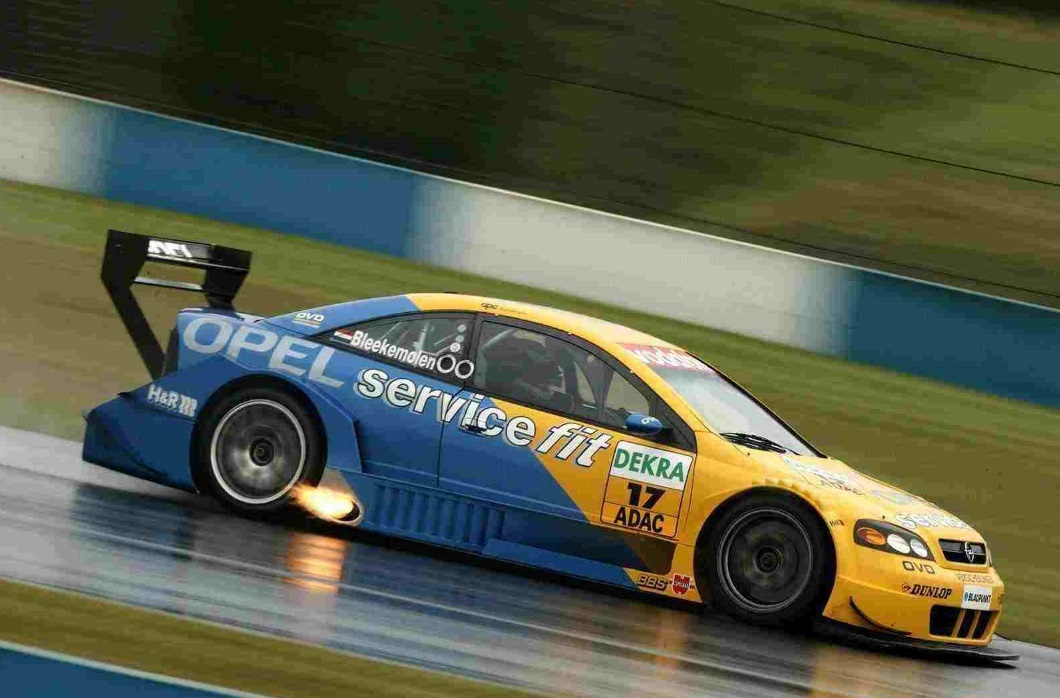racing car: (59, 207, 1012, 666)
